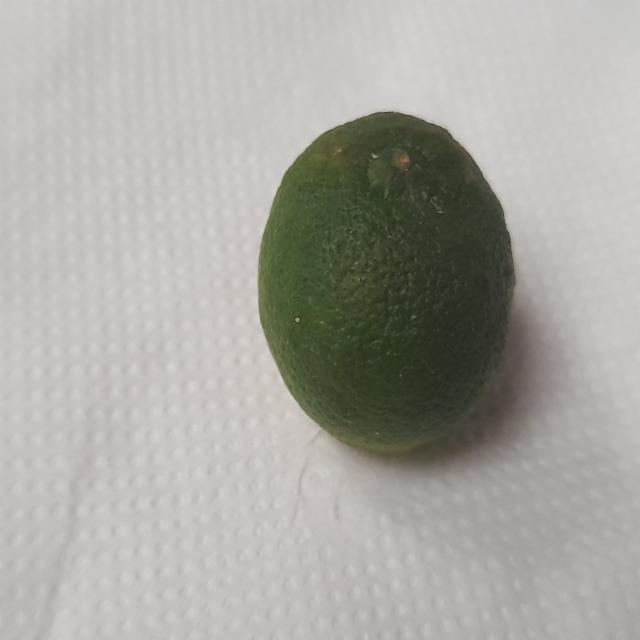heathy: (250, 99, 532, 458)
